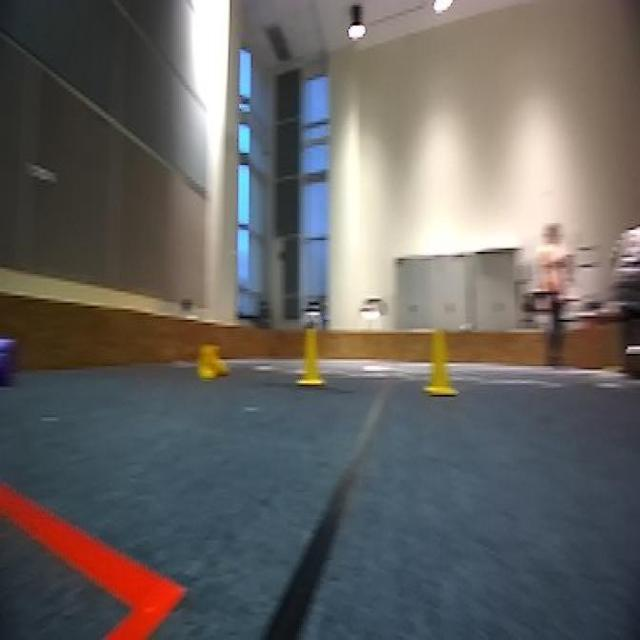frc_cone: (424, 328, 455, 398), (297, 323, 326, 388), (198, 341, 232, 382)
frc_cube: (0, 333, 12, 386)
